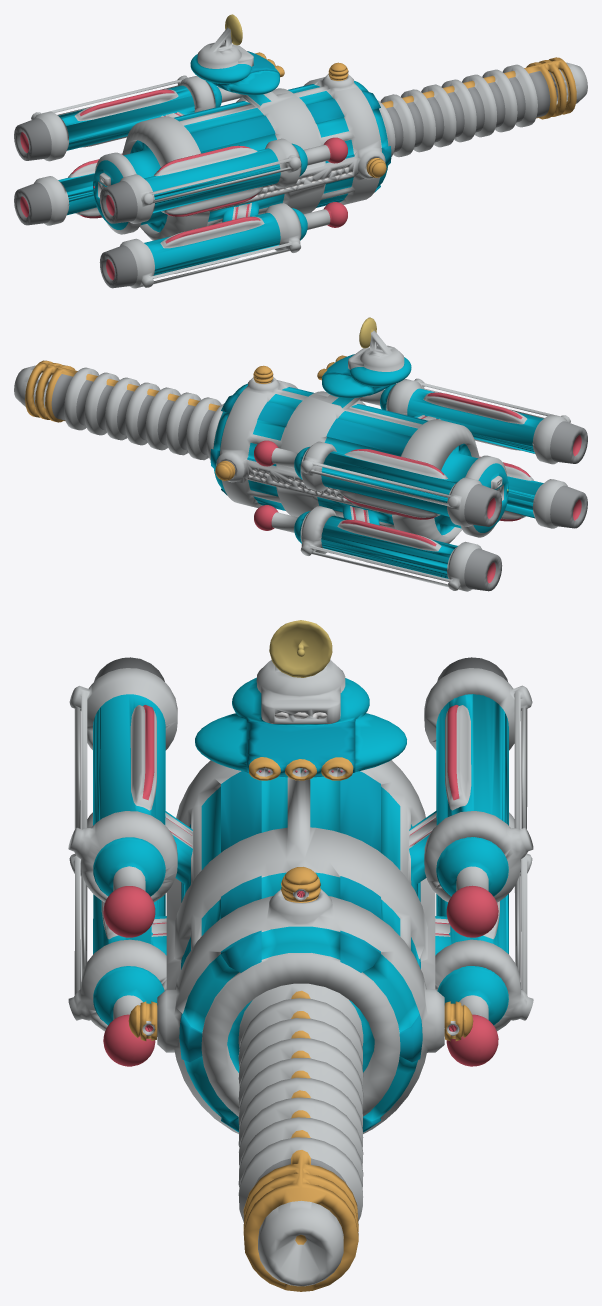
The model's file is ear-yamato.glb.
3 renders of one model, top to bottom at view 1: azimuth 30°, elevation 25°; view 2: azimuth 150°, elevation 25°; view 3: azimuth 270°, elevation 25°, orthographic. The views are drawn at different scales.
Parts seen in each view (by area): view 1: Yamato current hull - authored COLOR_0 regions; view 2: Yamato current hull - authored COLOR_0 regions; view 3: Yamato current hull - authored COLOR_0 regions.
Boxes of the visible parts, x1,y1,x2,y2 form: Yamato current hull - authored COLOR_0 regions: [14, 14, 587, 288]; Yamato current hull - authored COLOR_0 regions: [14, 317, 587, 591]; Yamato current hull - authored COLOR_0 regions: [68, 620, 533, 1291].
Size of the model in its own units: 8.18 by 3.17 by 3.21.
